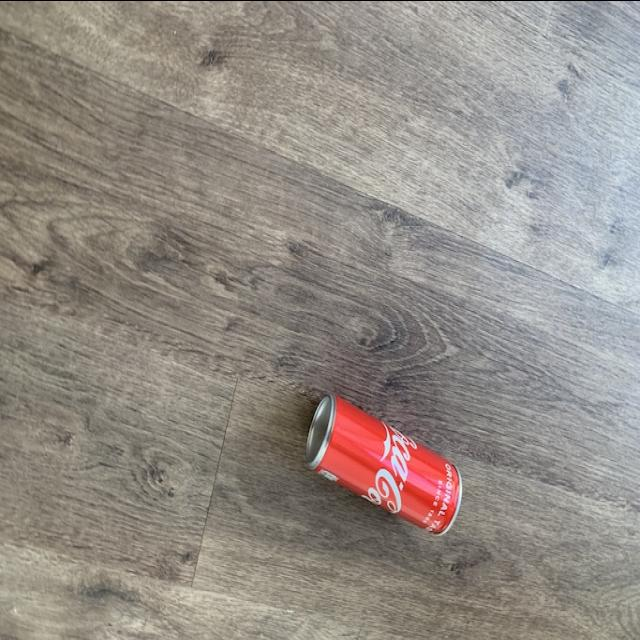Aluminum Can: (294, 348, 486, 558)
